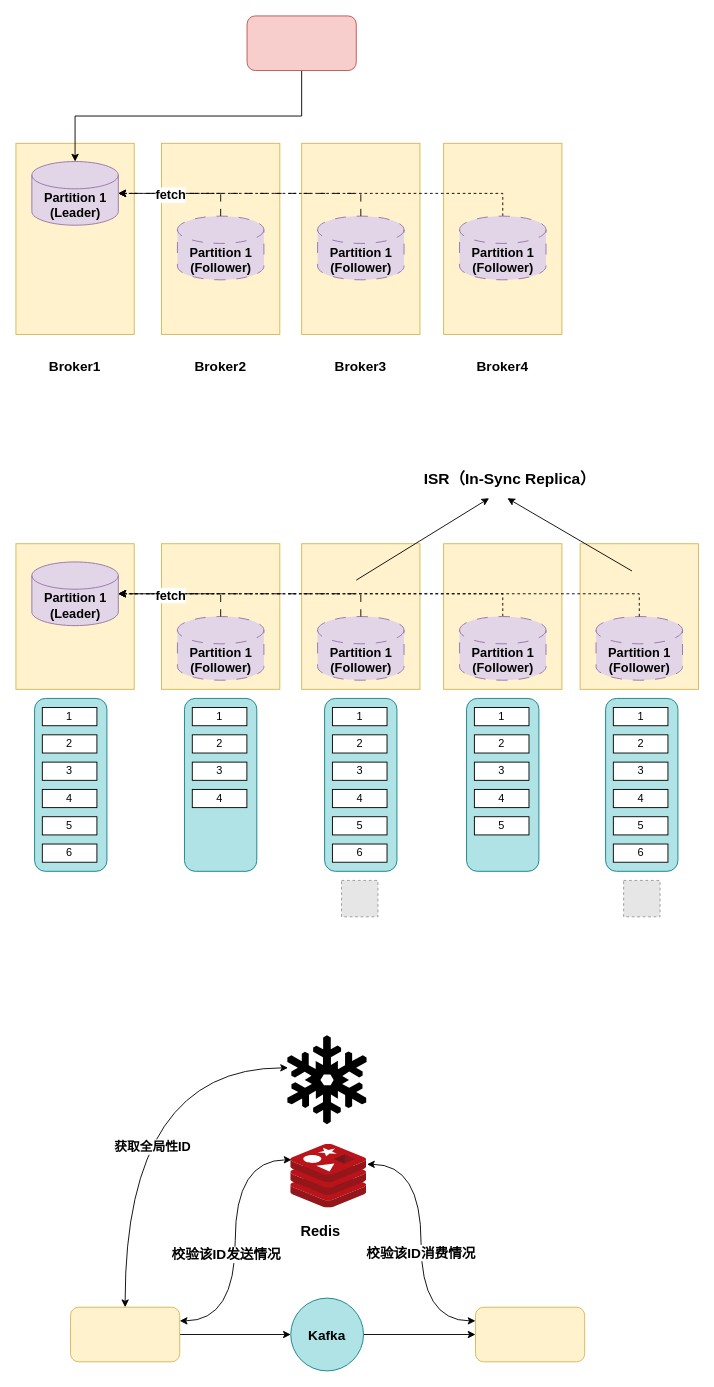
This 714x1387 diagram has some shape labels left out. Grey dashed boxes stand in for pictures. Each missing label, with the box of its shape:
Consumer: (475, 1306, 585, 1362)
Producer: (70, 1306, 180, 1362)
Topic_A: (246, 15, 356, 71)
